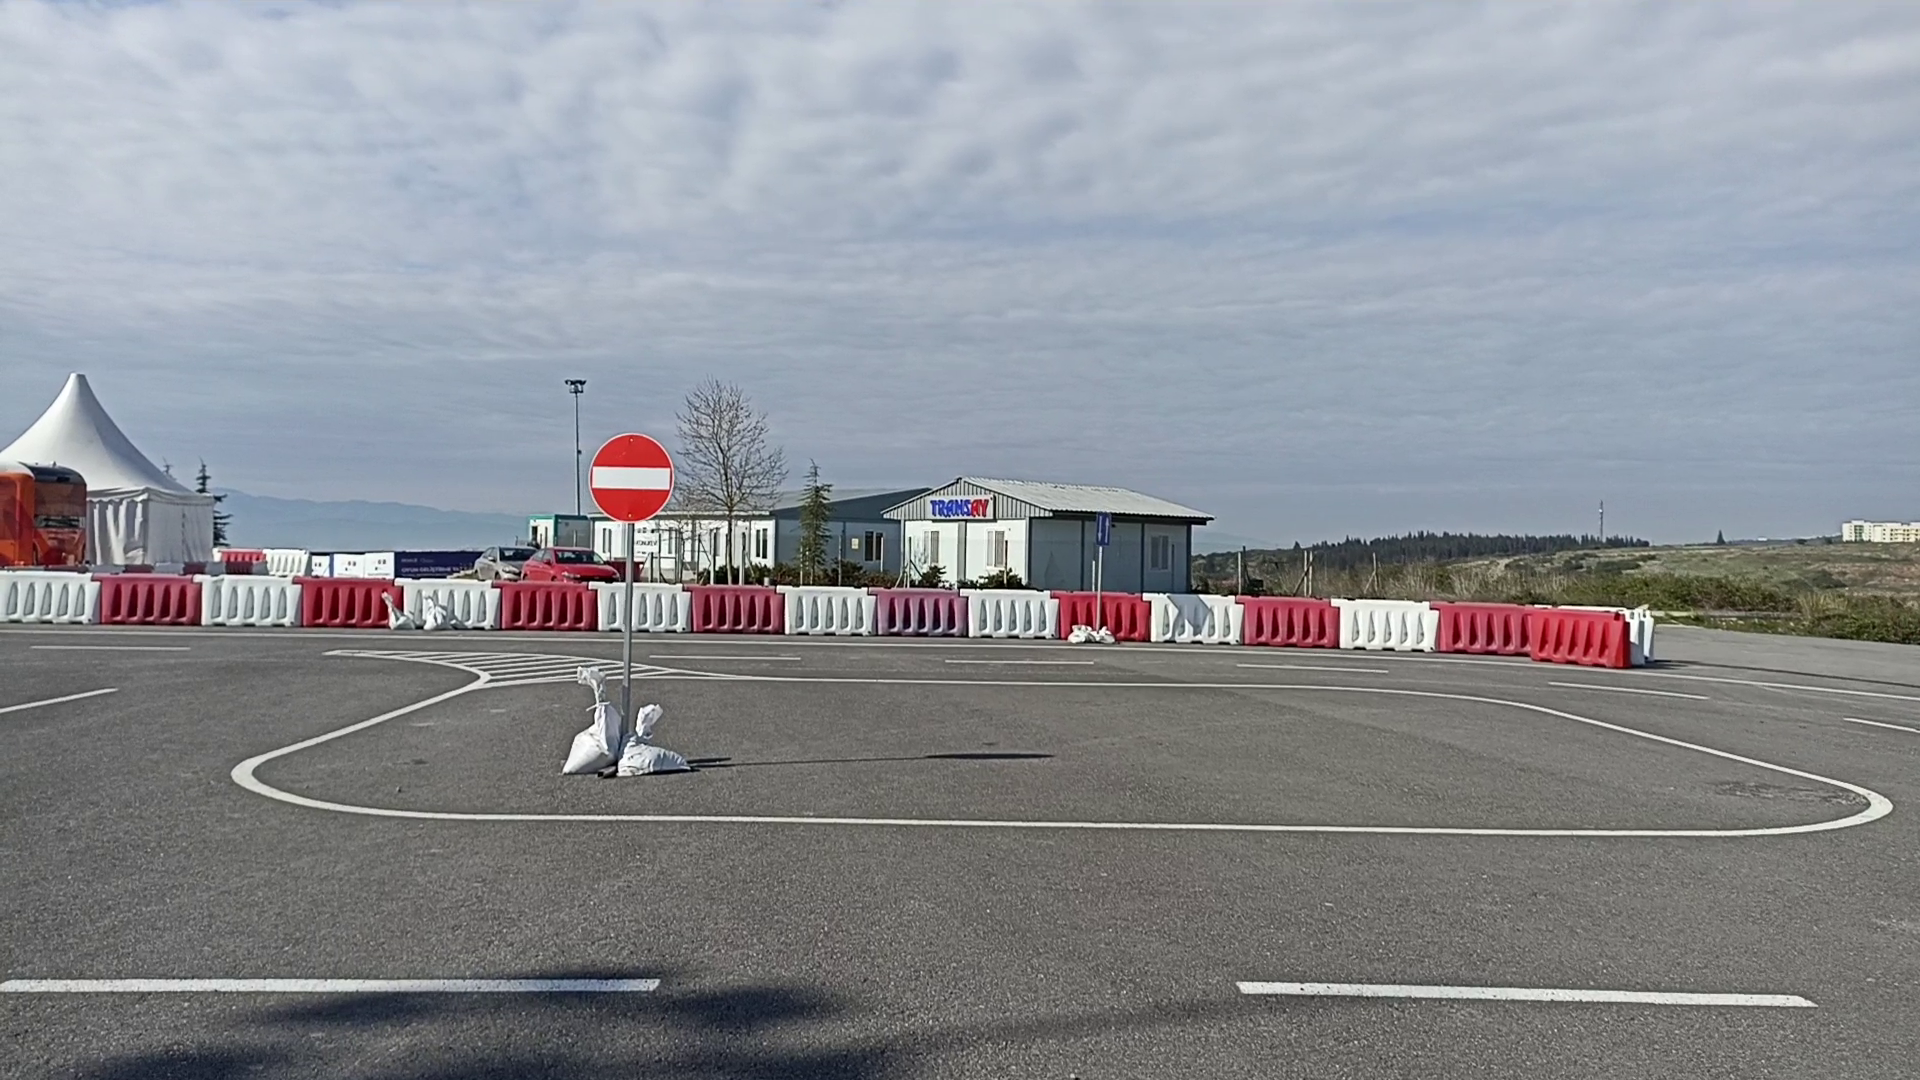noentryway: (585, 431, 676, 526)
